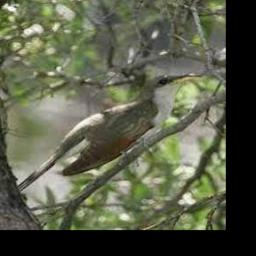Cuckoo: (17, 74, 200, 191)
